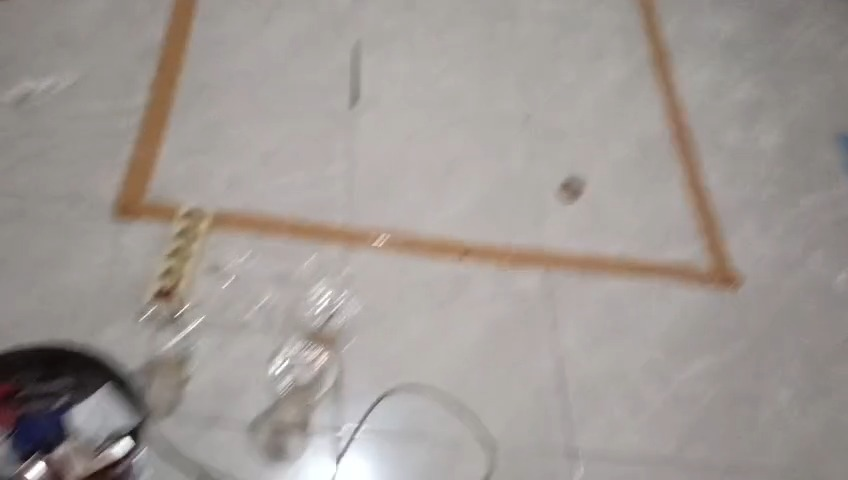floor marking: (213, 0, 741, 289), (112, 0, 198, 221)
